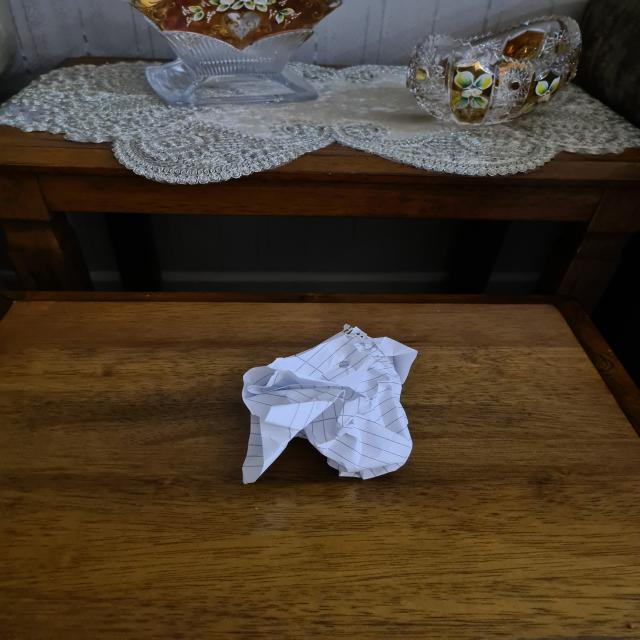Paper: (241, 327, 418, 483)
